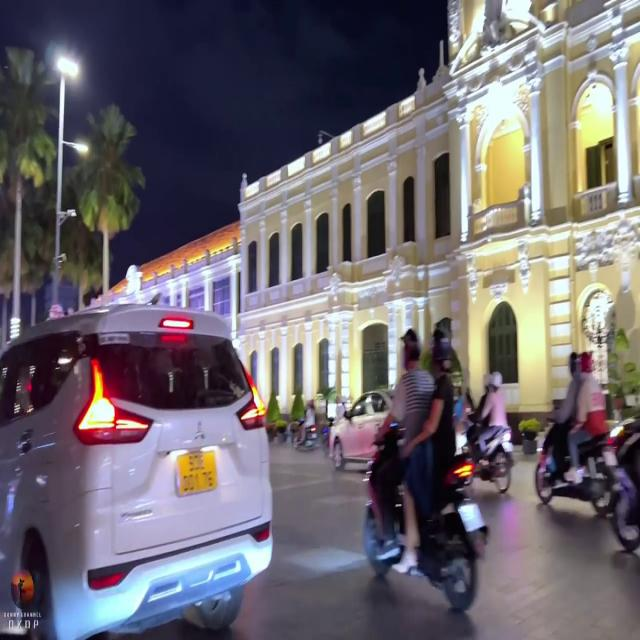bien_vang: (178, 448, 223, 496)
